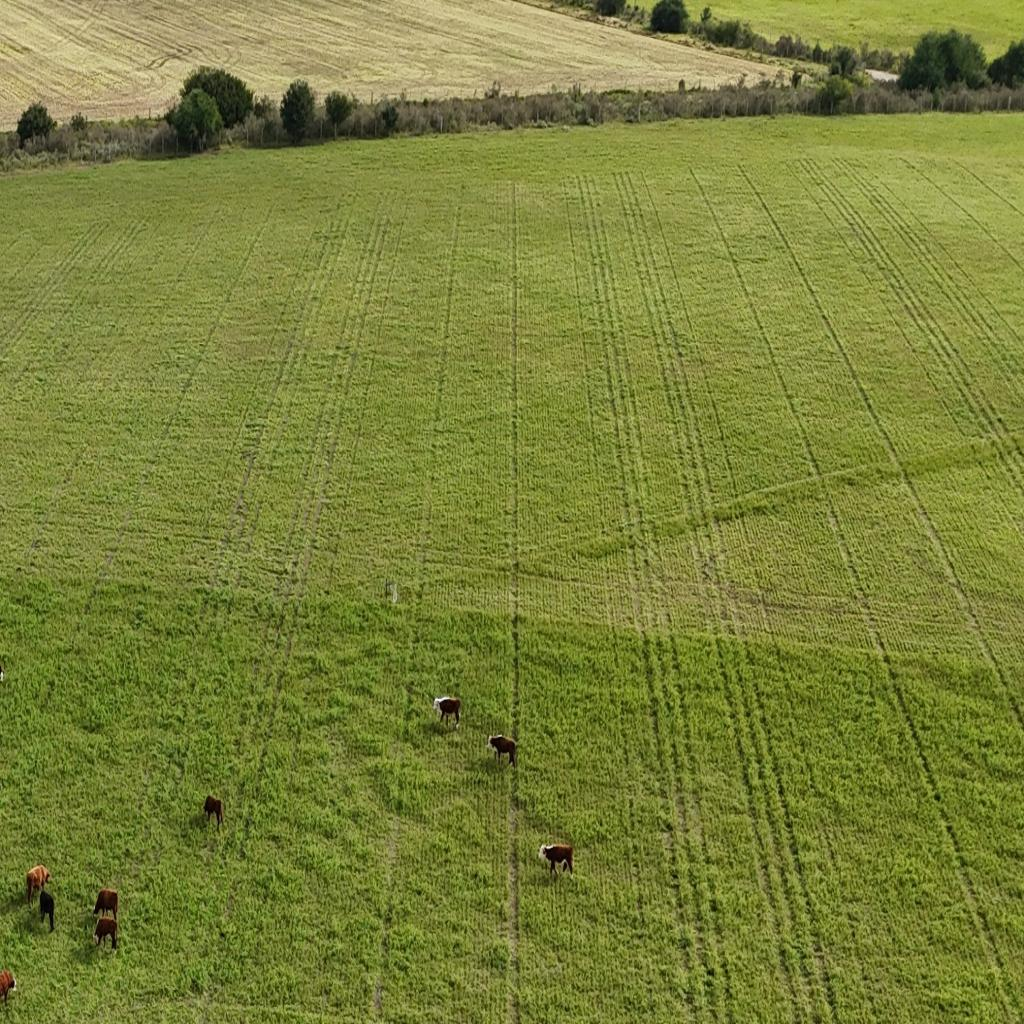cow: (538, 842, 573, 879), (24, 866, 52, 904), (488, 734, 518, 768), (432, 696, 461, 728), (92, 916, 118, 951), (37, 888, 57, 933), (93, 888, 118, 921), (203, 796, 223, 830), (0, 968, 17, 1006)
